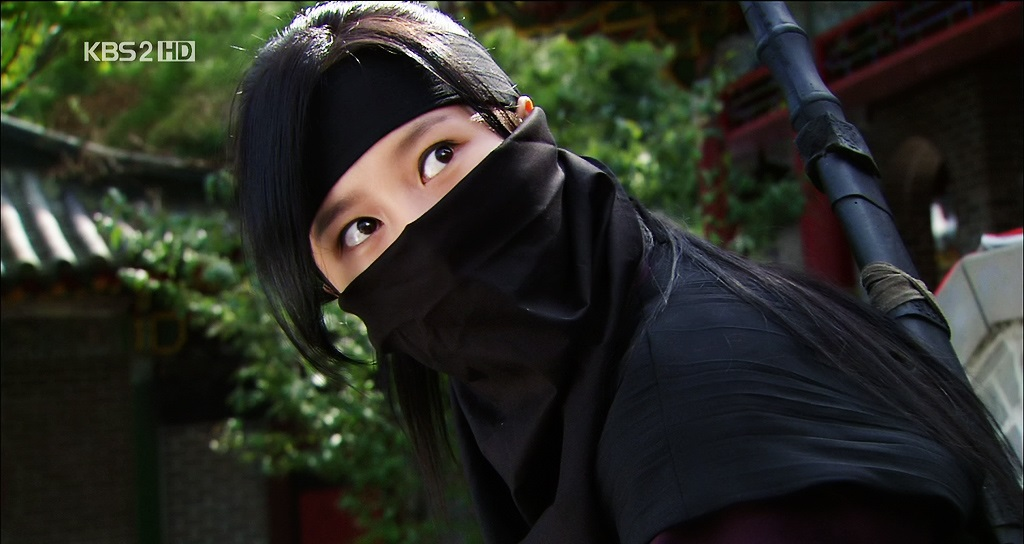face_mask: (289, 74, 556, 349)
